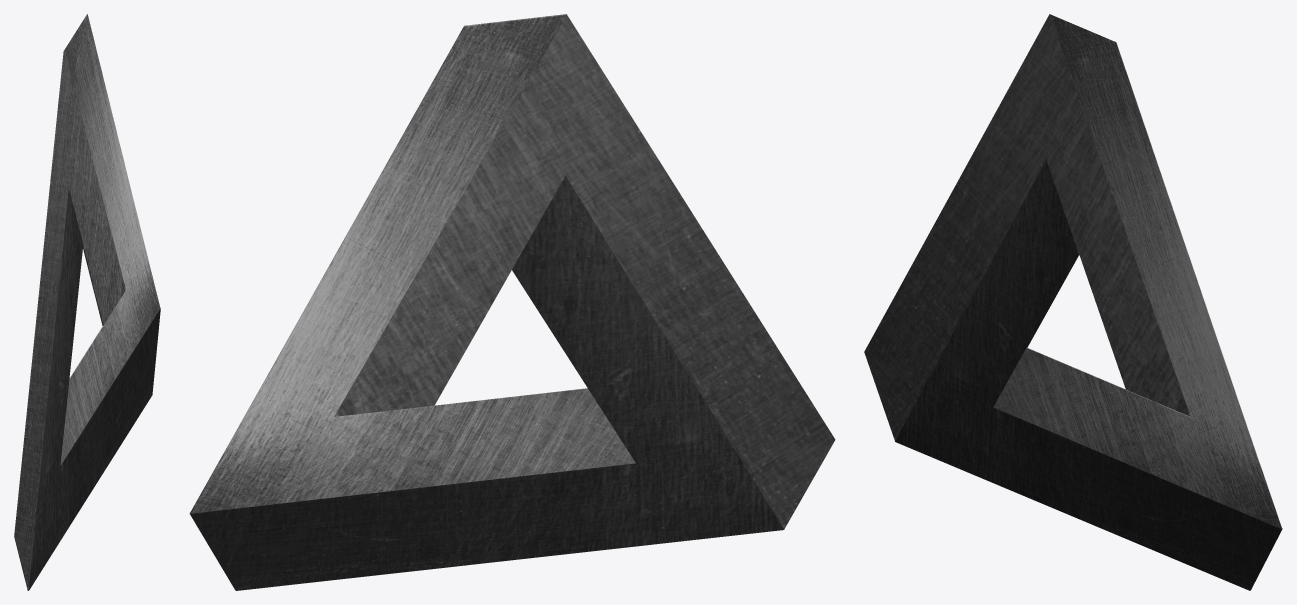
Rendered from ImpossibleTriangle.glb.
The picture shows the model from 3 angles, left to right: view 1: azimuth 30°, elevation 25°; view 2: azimuth 150°, elevation 25°; view 3: azimuth 270°, elevation 25°; orthographic projection. The views are drawn at different scales.
Parts seen in each view (by area): view 1: Material_001-material, Material_002-material, Material-material; view 2: Material_002-material, Material_001-material, Material-material; view 3: Material_002-material, Material_001-material, Material-material.
Part boxes in pixels (left/top/right/bottom): Material_001-material: left=14, top=50, right=125, bottom=590; Material_002-material: left=27, top=188, right=160, bottom=590; Material-material: left=60, top=14, right=160, bottom=465; Material_002-material: left=189, top=176, right=783, bottom=590; Material_001-material: left=334, top=14, right=835, bottom=529; Material-material: left=190, top=14, right=635, bottom=513; Material_002-material: left=895, top=159, right=1282, bottom=590; Material_001-material: left=864, top=14, right=1190, bottom=441; Material-material: left=993, top=14, right=1282, bottom=528.
Bounding box in the file's own units: 3.15 × 4.02 × 3.15.
3 materials, 3 textured.
